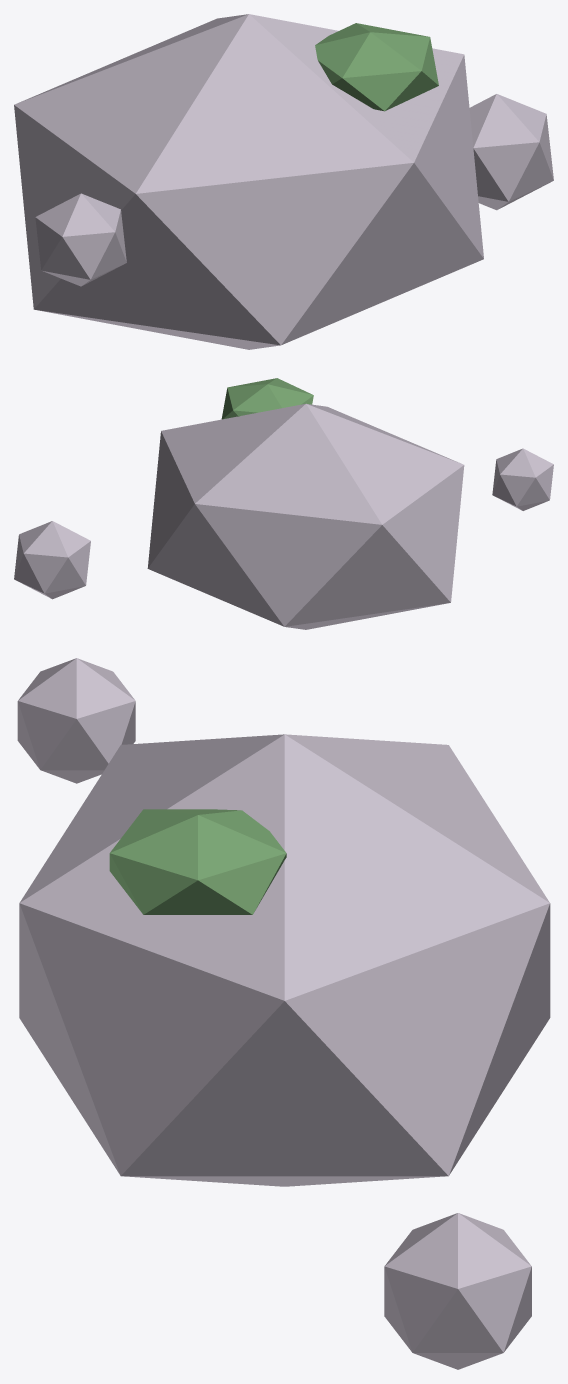
The model's file is Deco_FloatingRock.fbx.
3 renders of one model, top to bottom at view 1: azimuth 30°, elevation 25°; view 2: azimuth 150°, elevation 25°; view 3: azimuth 270°, elevation 25°, orthographic. The views are drawn at different scales.
Parts seen in each view (by area): view 1: Deco_FloatingRock_Main, Deco_FloatingRock, Deco_FloatingRock_Moss; view 2: Deco_FloatingRock_Main, Deco_FloatingRock, Deco_FloatingRock_Moss; view 3: Deco_FloatingRock_Main, Deco_FloatingRock, Deco_FloatingRock_Moss.
Part boxes in pixels (bbox=[...]): Deco_FloatingRock_Main: bbox=[14, 14, 483, 349]; Deco_FloatingRock: bbox=[35, 94, 553, 286]; Deco_FloatingRock_Moss: bbox=[315, 23, 438, 111]; Deco_FloatingRock_Main: bbox=[147, 403, 464, 629]; Deco_FloatingRock: bbox=[14, 448, 553, 599]; Deco_FloatingRock_Moss: bbox=[221, 378, 313, 419]; Deco_FloatingRock_Main: bbox=[19, 734, 550, 1186]; Deco_FloatingRock: bbox=[17, 658, 531, 1369]; Deco_FloatingRock_Moss: bbox=[109, 809, 286, 914].
Bounding box in the file's own units: 0.5805 × 0.288 × 0.3071.
